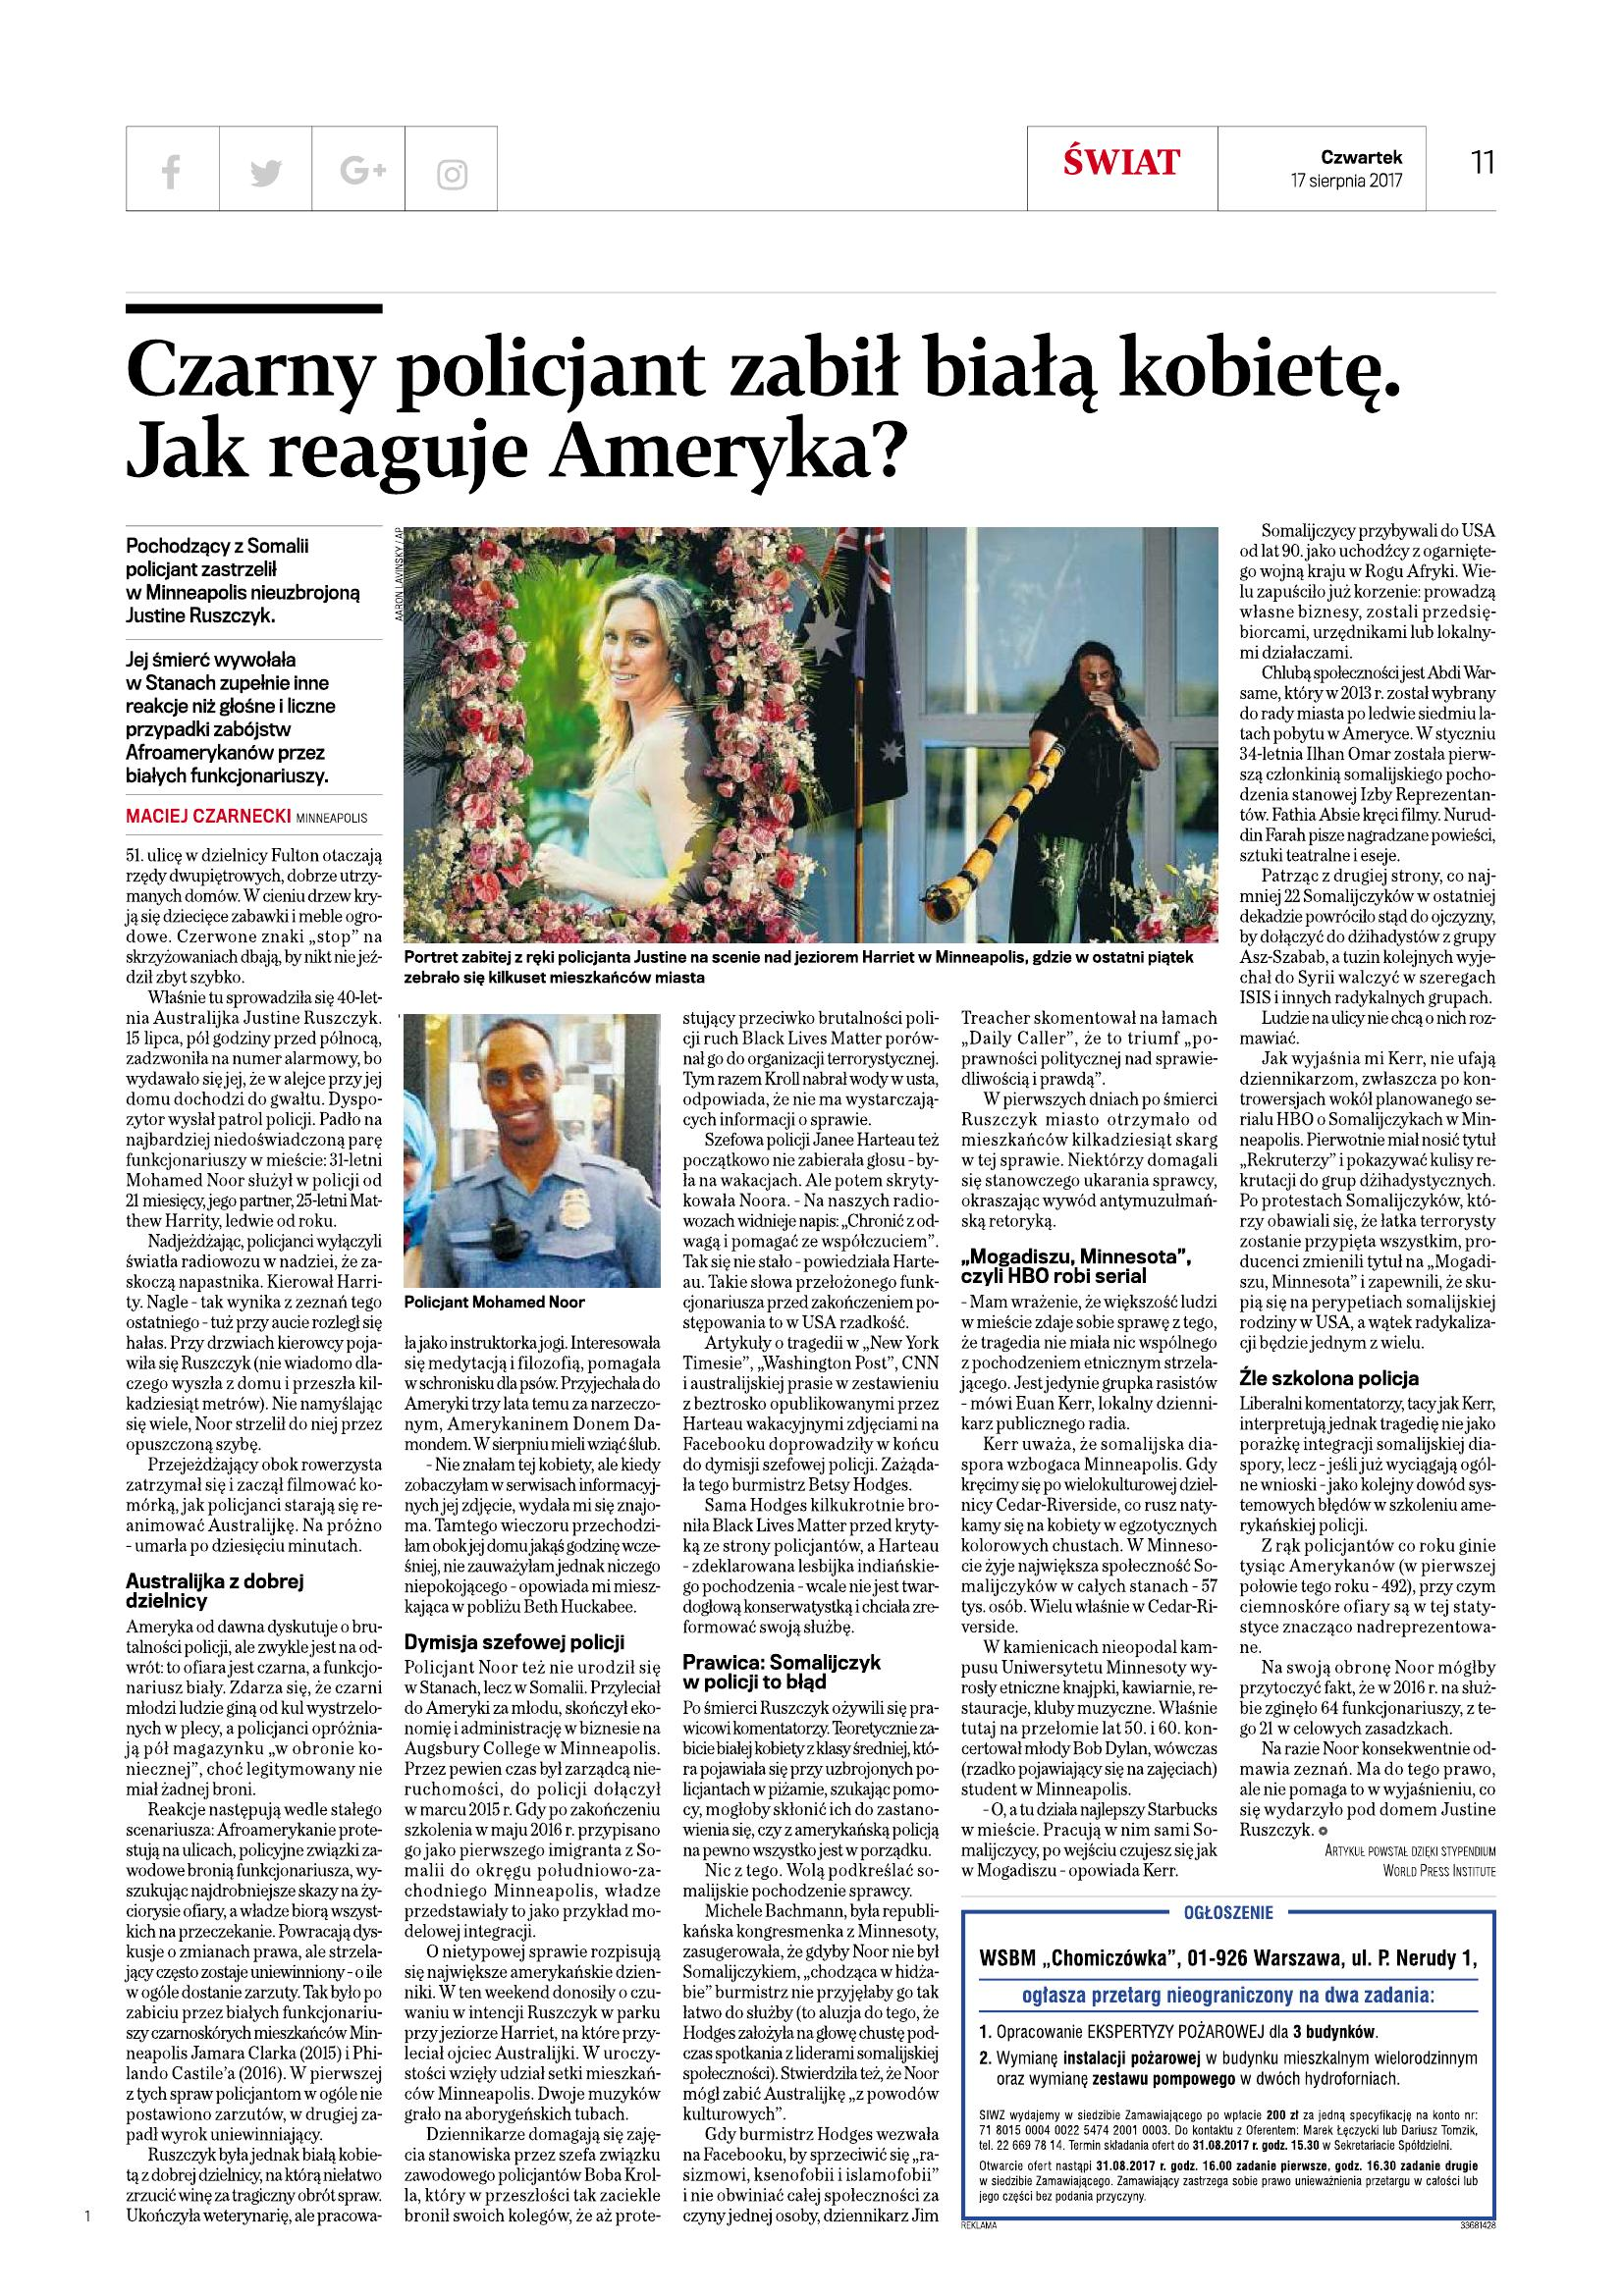article: (77, 281, 1532, 2240)
